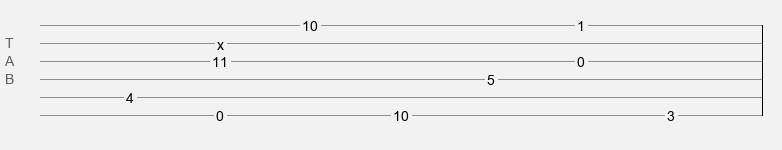0: (216, 108, 224, 118), (577, 54, 585, 64)
1: (577, 18, 585, 28)
10: (302, 18, 318, 28), (393, 108, 409, 118)
11: (212, 54, 228, 64)
3: (667, 108, 675, 118)
4: (126, 90, 134, 100)
5: (487, 72, 495, 82)
x: (217, 37, 224, 45)
